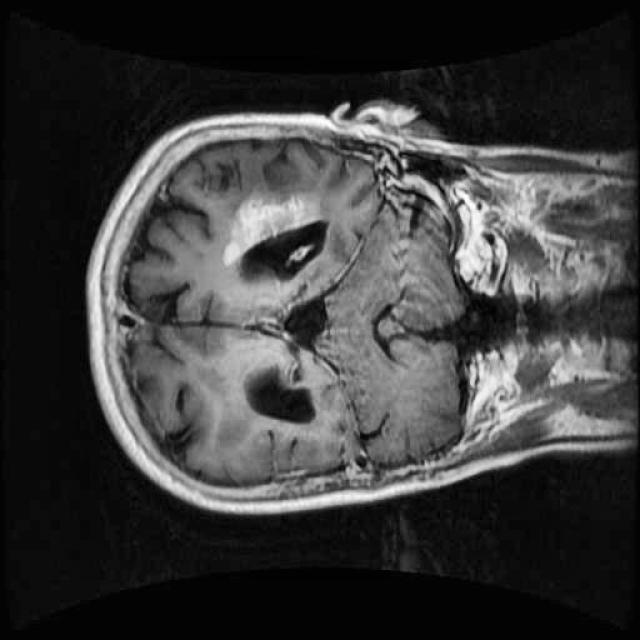Tumor: (213, 174, 341, 277)
